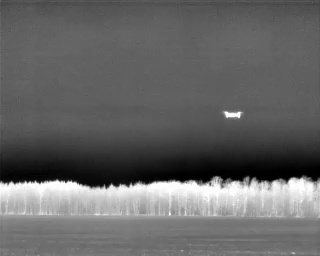DRONE: (219, 105, 247, 123)
